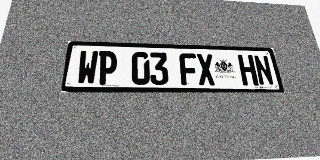0: (131, 52, 150, 85)
3: (150, 52, 168, 85)
F: (179, 53, 199, 85)
H: (237, 55, 259, 86)
N: (253, 55, 275, 86)
P: (97, 51, 117, 85)
W: (76, 50, 99, 85)
X: (196, 54, 216, 85)
